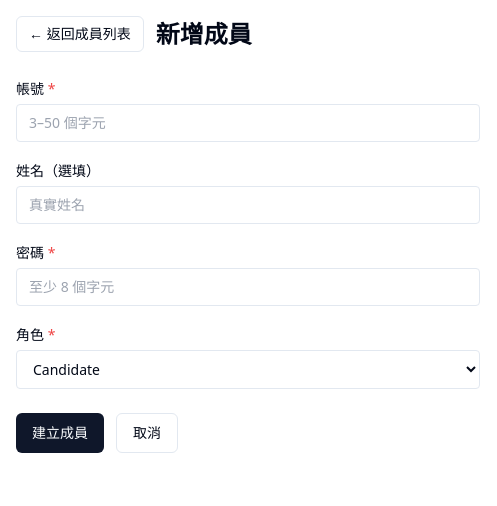
it: MemberCreatePage › shows "該帳號名稱已存在" when the backend returns 400 with that detail
Type "existing_user" into the field labelled "帳號 *" at (248, 123), box [16,104,480,142]
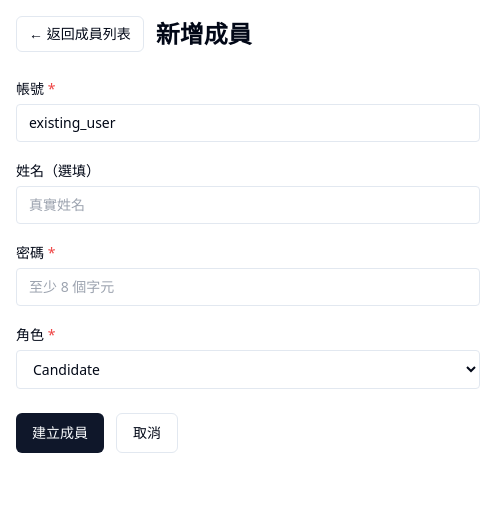
Type "password8" into the password field labelled "密碼 *" at (248, 287), box [16,268,480,306]
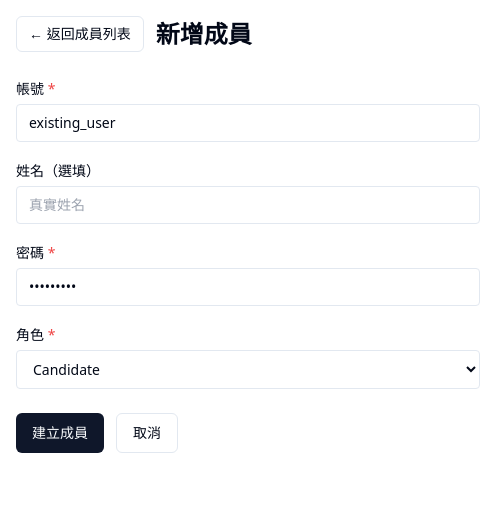
Click the button "建立成員" at (60, 433), box [16,413,104,453]
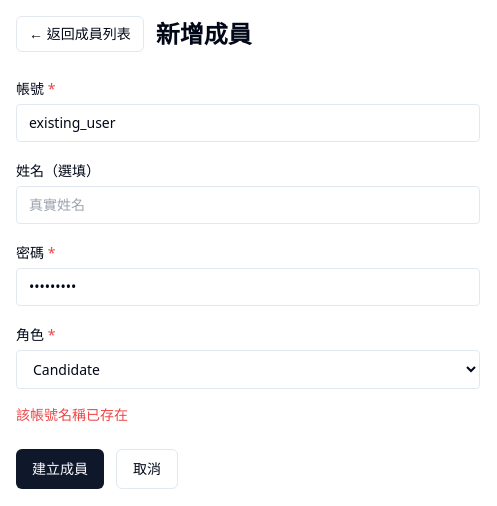
Expected: the text "該帳號名稱已存在" is shown, [16,405,128,424]
